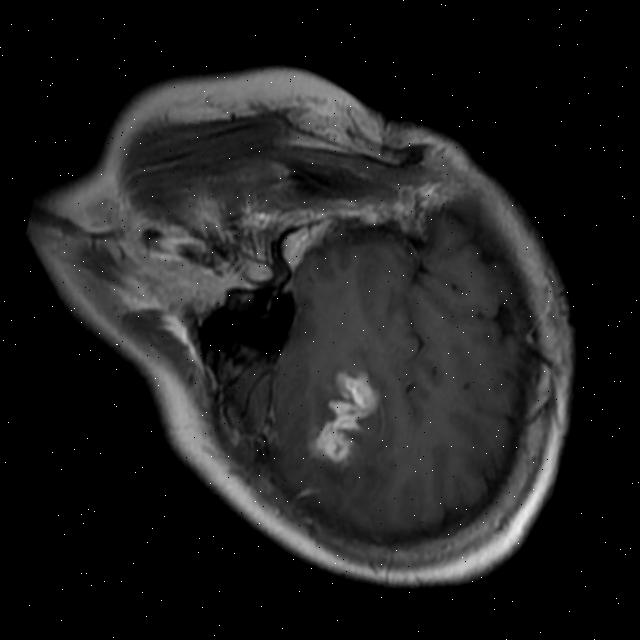Glioma: (302, 360, 390, 471)
